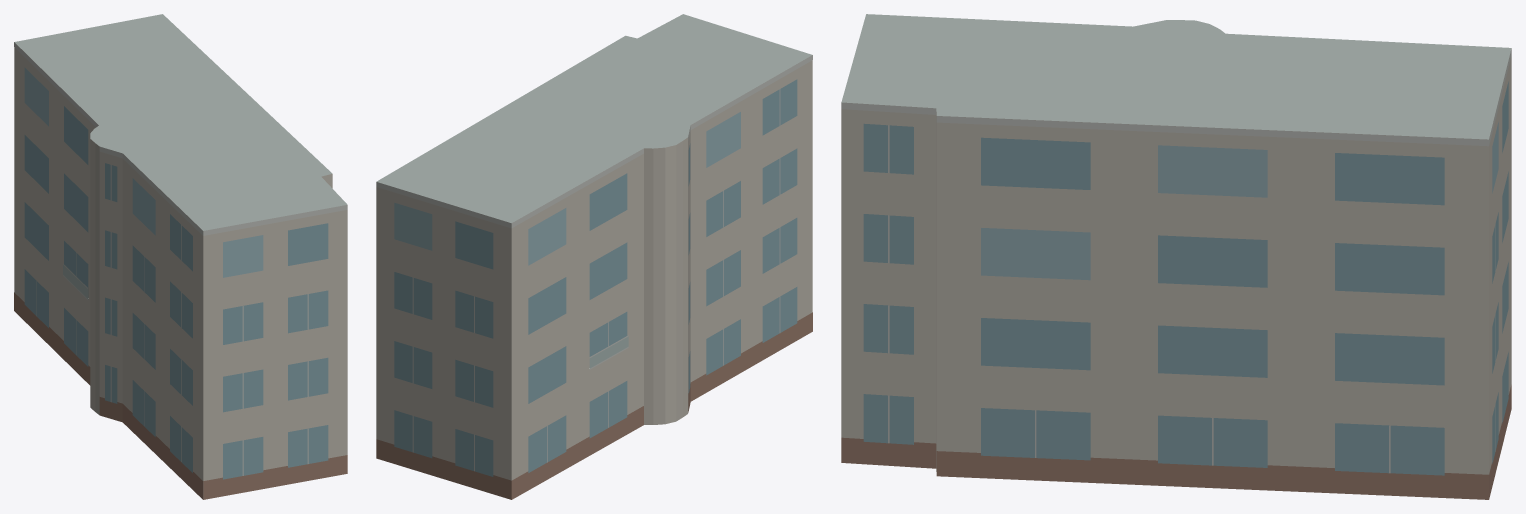
Rendered from survey-upis-32816605.glb.
3 views of the same model, side by side, from view 1: azimuth 30°, elevation 25°; view 2: azimuth 150°, elevation 25°; view 3: azimuth 270°, elevation 25° (orthographic). The views are drawn at different scales.
Visible parts, largest first — view 1: survey-upis-32816605.tmp; view 2: survey-upis-32816605.tmp; view 3: survey-upis-32816605.tmp.
Part boxes in pixels (x1=…): survey-upis-32816605.tmp: x1=14, y1=14, x2=347, y2=499; survey-upis-32816605.tmp: x1=376, y1=14, x2=812, y2=499; survey-upis-32816605.tmp: x1=841, y1=14, x2=1511, y2=499.
Size of the model in its own units: 9.8 by 13.1 by 22.09.
